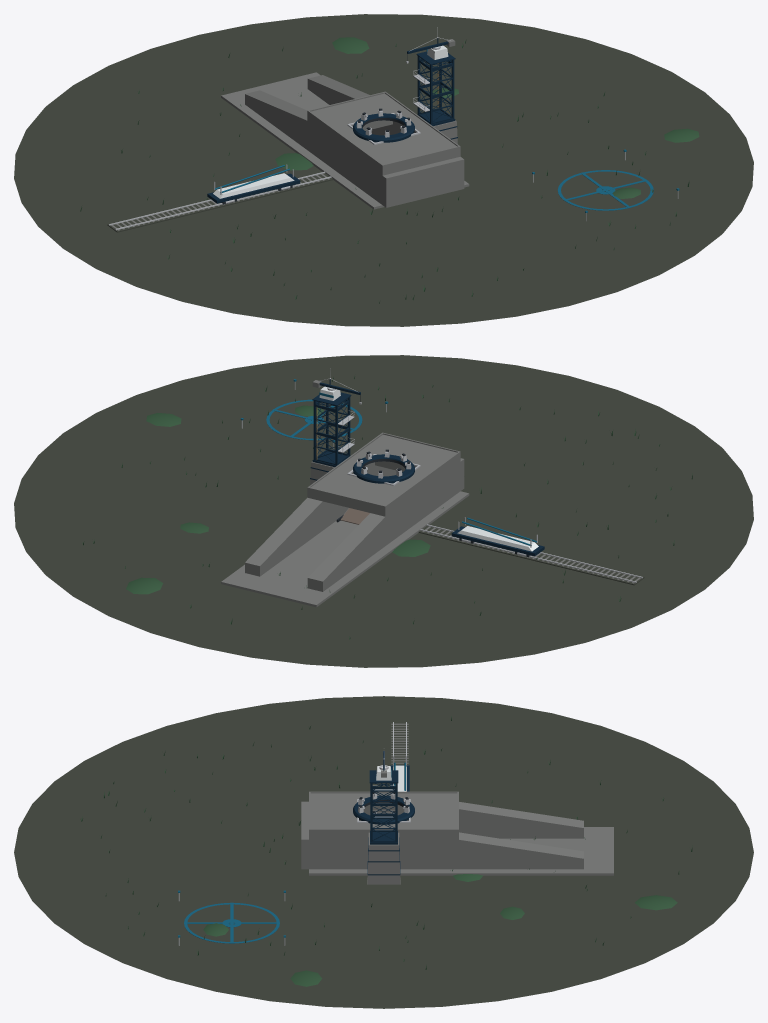
Rendered from site_inland_steppe_cosmodrome.glb.
3 renders of one model, top to bottom at view 1: azimuth 30°, elevation 25°; view 2: azimuth 150°, elevation 25°; view 3: azimuth 270°, elevation 25°, orthographic.
Parts seen in each view (by area): view 1: site_inland_steppe_cosmodrome_mesh; view 2: site_inland_steppe_cosmodrome_mesh; view 3: site_inland_steppe_cosmodrome_mesh.
Part boxes in pixels (x1=…): site_inland_steppe_cosmodrome_mesh: x1=14, y1=14, x2=753, y2=326; site_inland_steppe_cosmodrome_mesh: x1=14, y1=355, x2=753, y2=667; site_inland_steppe_cosmodrome_mesh: x1=14, y1=696, x2=753, y2=1008.
Bounding box in the file's own units: 148 × 28.72 × 148.
